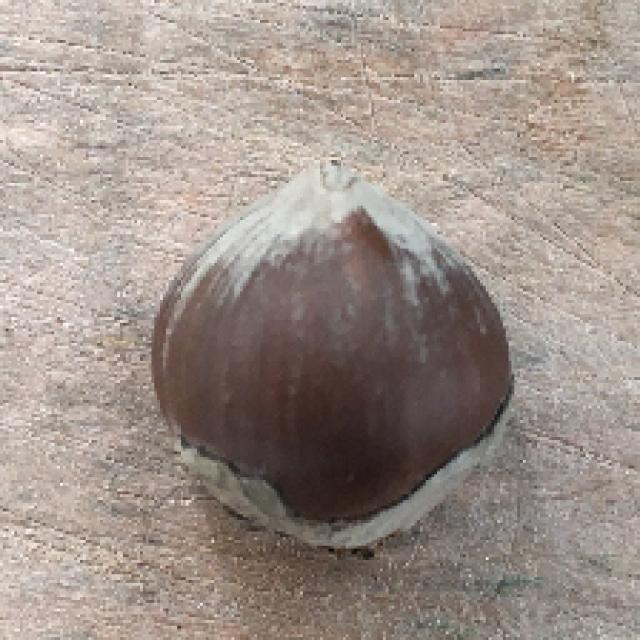damagedHazelnut: (156, 159, 523, 557)
